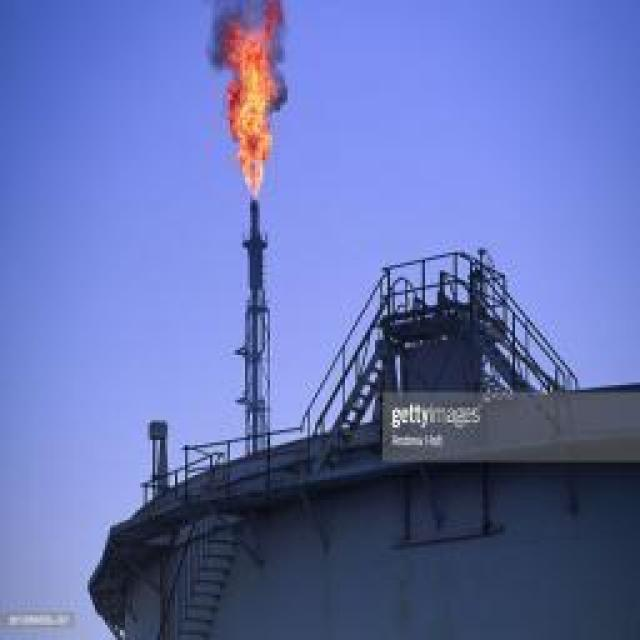fire: (222, 0, 284, 201)
smoke: (204, 0, 272, 72), (266, 0, 289, 112)
